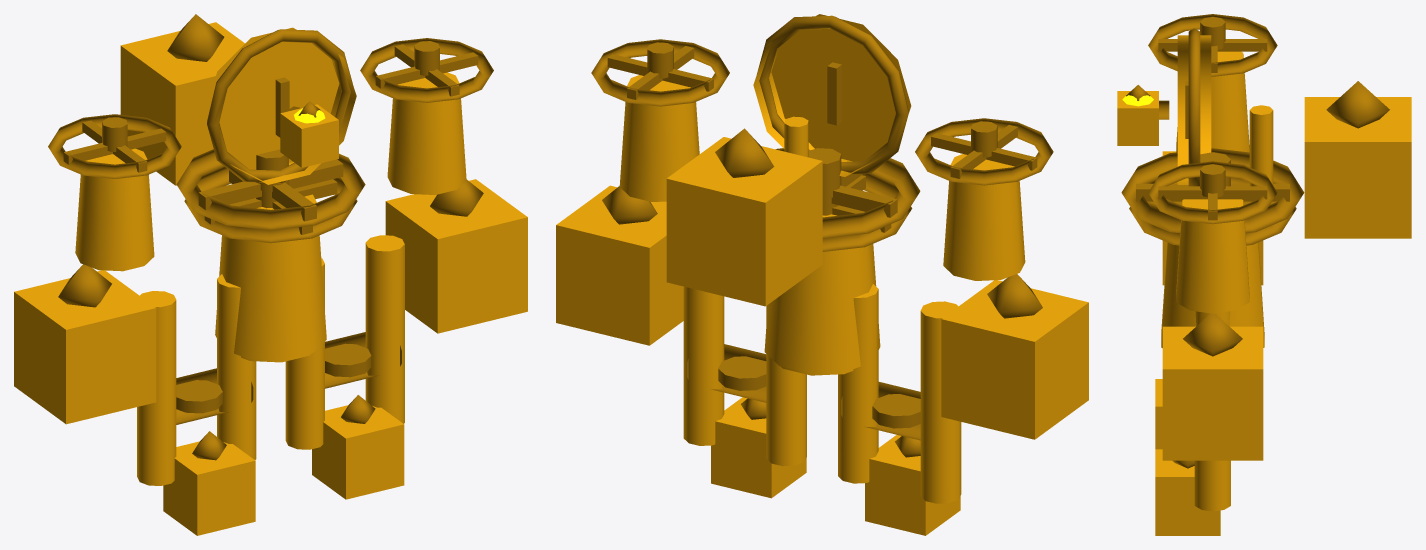
The model's file is golem_012.glb.
The picture shows the model from 3 angles, left to right: view 1: azimuth 30°, elevation 25°; view 2: azimuth 150°, elevation 25°; view 3: azimuth 270°, elevation 25°; orthographic projection. The views are drawn at different scales.
Visible parts, largest first — view 1: Body, Detail; view 2: Body, Detail; view 3: Body, Detail.
Part boxes in pixels (<box>): Body: <box>14,22,527,535</box>; Detail: <box>48,14,493,460</box>; Body: <box>556,14,1088,535</box>; Detail: <box>591,15,1053,457</box>; Body: <box>1117,35,1411,535</box>; Detail: <box>1121,14,1389,468</box>.
Bounding box in the file's own units: 1.54 × 1.49 × 0.8786.
